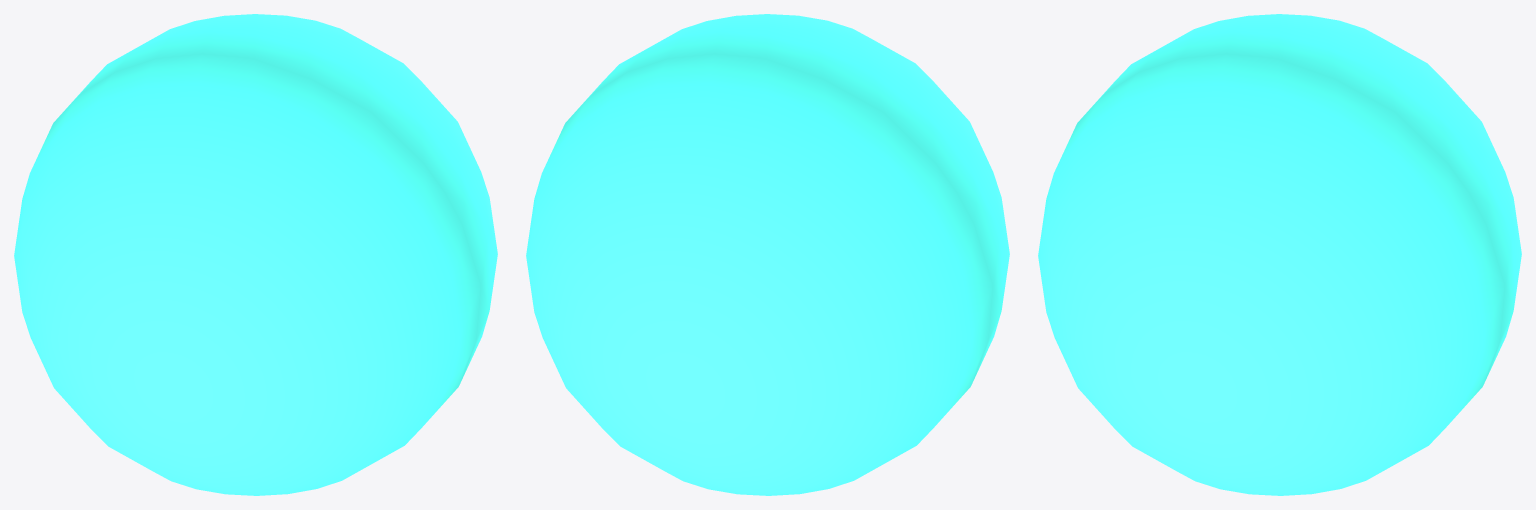
The model's file is SH_orb_revised.gltf.
The picture shows the model from 3 angles, left to right: view 1: azimuth 30°, elevation 25°; view 2: azimuth 150°, elevation 25°; view 3: azimuth 270°, elevation 25°; orthographic projection.
Visible parts, largest first — view 1: Blue Sky Gradient ORB IN; view 2: Blue Sky Gradient ORB IN; view 3: Blue Sky Gradient ORB IN.
Part boxes in pixels (x1=…): Blue Sky Gradient ORB IN: x1=14, y1=14, x2=497, y2=495; Blue Sky Gradient ORB IN: x1=526, y1=14, x2=1009, y2=495; Blue Sky Gradient ORB IN: x1=1038, y1=14, x2=1521, y2=495.
Size of the model in its own units: 0.002 by 0.002 by 0.002.
